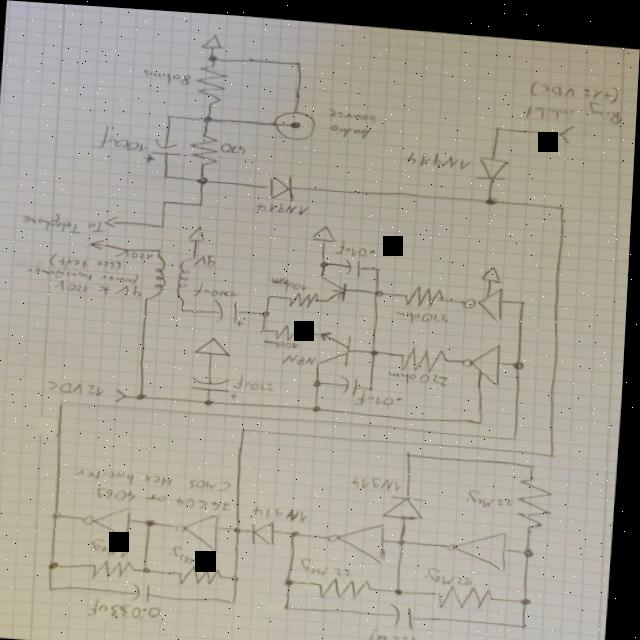capacitor: (192, 371, 243, 395), (142, 134, 183, 163), (213, 294, 249, 324), (392, 595, 423, 623), (134, 580, 159, 601), (343, 370, 364, 391), (345, 253, 366, 272)
diode: (388, 485, 431, 515), (474, 147, 513, 175), (267, 169, 297, 197), (255, 515, 282, 542)
ground: (195, 331, 236, 354), (481, 257, 505, 277), (313, 218, 338, 237), (199, 29, 224, 46), (188, 221, 209, 239)
junction: (524, 538, 542, 552), (200, 109, 216, 121), (149, 514, 163, 525), (522, 588, 539, 597), (53, 558, 66, 569), (55, 508, 68, 519), (235, 521, 249, 531), (197, 172, 211, 182), (514, 352, 528, 362), (485, 188, 499, 198), (292, 524, 305, 533), (397, 581, 410, 590), (207, 394, 219, 403), (372, 342, 384, 351), (207, 50, 219, 59), (146, 562, 158, 571), (288, 572, 300, 581), (374, 283, 387, 291), (320, 255, 332, 263), (138, 390, 150, 398), (314, 399, 326, 407), (236, 570, 246, 579), (263, 305, 274, 313), (293, 54, 304, 62), (316, 374, 327, 382), (402, 532, 412, 540), (492, 118, 503, 125), (520, 291, 530, 298), (558, 196, 568, 203), (61, 399, 71, 406), (165, 110, 174, 117), (525, 615, 535, 621), (289, 599, 297, 606), (162, 196, 170, 203), (409, 444, 417, 451), (371, 379, 379, 386), (52, 584, 61, 590), (181, 304, 190, 310), (532, 455, 540, 461), (552, 444, 560, 450), (199, 198, 207, 204), (163, 171, 171, 177), (235, 595, 243, 601), (480, 411, 488, 417), (244, 423, 252, 429), (376, 261, 384, 266), (160, 221, 168, 226), (157, 245, 165, 250), (514, 428, 522, 433), (268, 290, 275, 295), (263, 323, 270, 328)
resistor: (519, 468, 560, 523), (437, 576, 502, 604), (400, 338, 454, 366), (194, 60, 229, 103), (322, 570, 379, 596), (403, 277, 450, 303), (95, 554, 142, 579), (190, 128, 222, 164), (181, 560, 231, 583), (275, 319, 315, 338), (288, 284, 323, 305)
terminal: (272, 104, 317, 138), (557, 116, 577, 137), (105, 212, 126, 226), (115, 385, 132, 401), (91, 236, 111, 249)
text: (77, 464, 237, 489), (99, 483, 237, 508), (523, 88, 626, 118), (26, 259, 145, 283), (528, 69, 621, 96), (23, 209, 108, 234), (55, 275, 146, 297), (93, 594, 168, 619), (92, 121, 151, 151), (49, 251, 126, 271), (405, 144, 474, 164), (389, 363, 454, 382), (366, 620, 424, 640), (50, 377, 111, 396), (302, 552, 359, 572), (256, 500, 315, 519), (428, 559, 481, 580), (395, 301, 452, 320), (356, 383, 409, 403), (468, 481, 518, 502), (141, 65, 193, 84), (193, 277, 243, 296), (92, 535, 137, 556), (354, 469, 408, 486), (236, 368, 281, 388), (256, 196, 312, 212), (337, 233, 379, 254), (173, 541, 215, 562), (326, 102, 379, 118), (329, 116, 373, 135), (272, 269, 312, 287), (265, 333, 305, 346), (283, 347, 320, 361), (115, 247, 157, 258), (220, 138, 249, 151), (198, 249, 220, 264)
transformer: (146, 250, 198, 301)
transistor: (317, 324, 358, 366), (322, 269, 352, 297)
